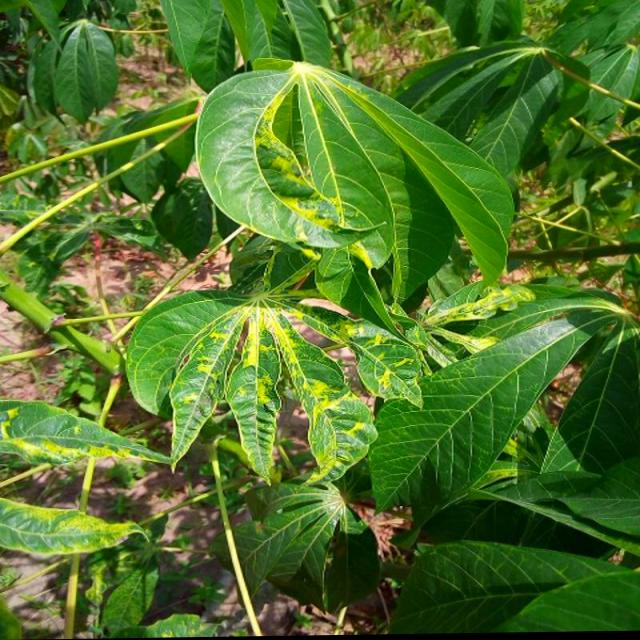Mosaico: (138, 252, 394, 463), (204, 41, 365, 259)
